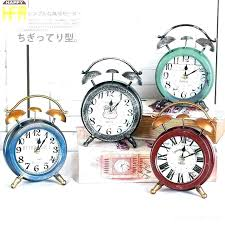alarm_clock: (79, 56, 143, 145)
